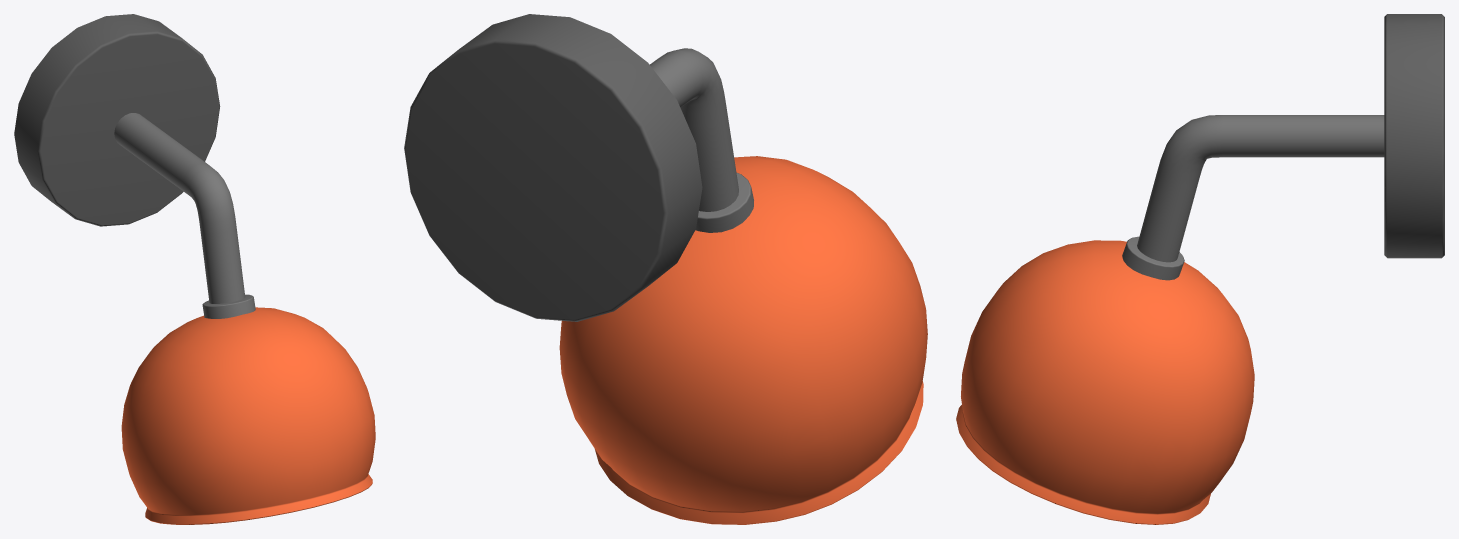
Rendered from Town_16_Wall_Lamp_2.glb.
3 renders of one model, left to right at view 1: azimuth 30°, elevation 25°; view 2: azimuth 150°, elevation 25°; view 3: azimuth 270°, elevation 25°, orthographic. The views are drawn at different scales.
Visible parts, largest first — view 1: Town_16_Wall_Lamp_2; view 2: Town_16_Wall_Lamp_2; view 3: Town_16_Wall_Lamp_2.
Boxes of the visible parts, x1,y1,x2,y2 form: Town_16_Wall_Lamp_2: (14, 14, 375, 524); Town_16_Wall_Lamp_2: (404, 14, 927, 524); Town_16_Wall_Lamp_2: (956, 14, 1444, 524).
Size of the model in its own units: 0.4116 by 0.7308 by 0.6898.
1 material, 1 textured.
